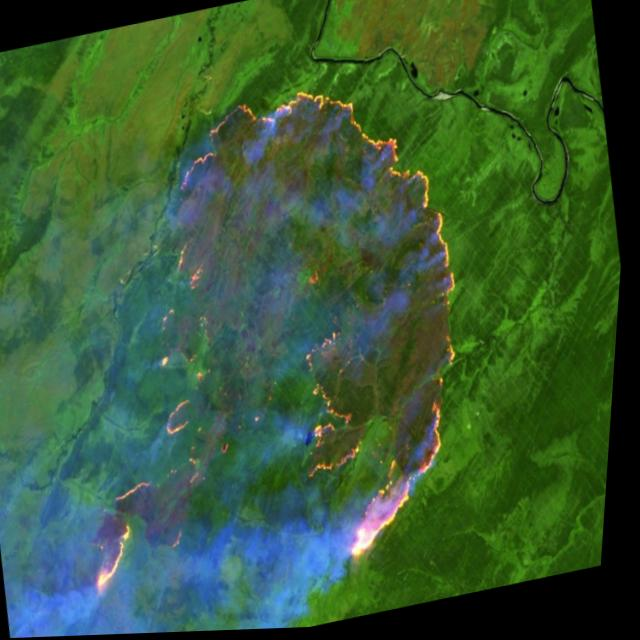fire: (9, 50, 524, 639)
